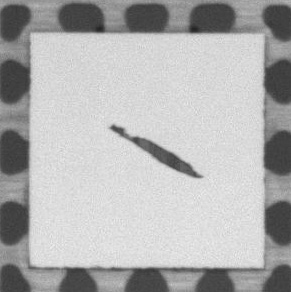DIE_INK: (107, 121, 200, 177)
